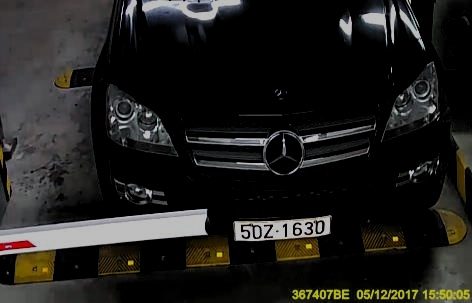plate: (229, 212, 335, 242)
